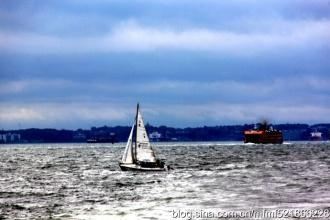Cargoship: (242, 120, 286, 145)
fanchuan: (117, 102, 168, 174)
